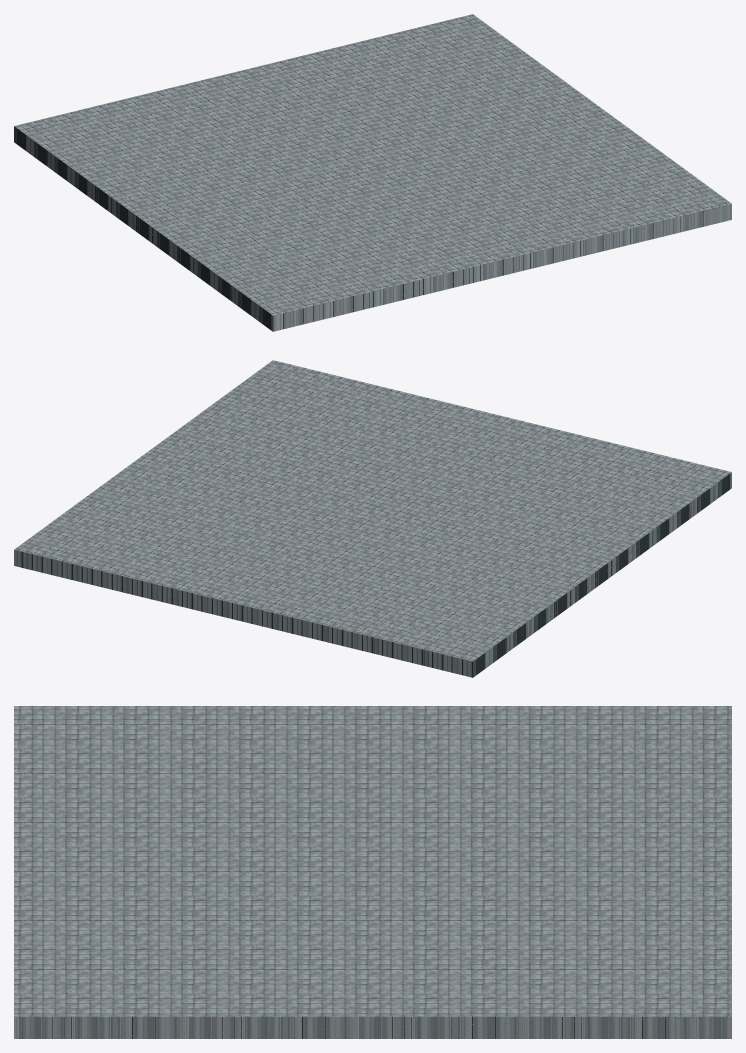
Rendered from FountainFloor.fbx.
3 renders of one model, top to bottom at view 1: azimuth 30°, elevation 25°; view 2: azimuth 150°, elevation 25°; view 3: azimuth 270°, elevation 25°, orthographic. The views are drawn at different scales.
Visible parts, largest first — view 1: FountainFloor.001; view 2: FountainFloor.001; view 3: FountainFloor.001.
Boxes of the visible parts, x1,y1,x2,y2 form: FountainFloor.001: [14, 14, 731, 331]; FountainFloor.001: [14, 360, 731, 677]; FountainFloor.001: [14, 706, 731, 1038].
Bounding box in the file's own units: 59.41 × 2 × 58.07.
